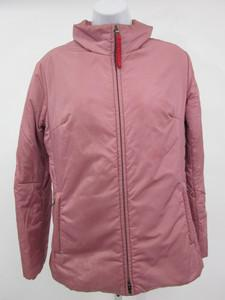C_jacket: (4, 14, 217, 299)
